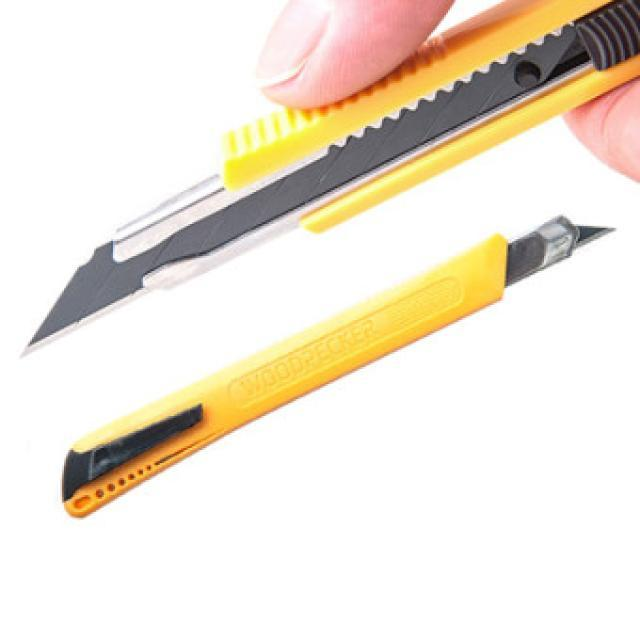cutter: (9, 0, 640, 384), (45, 204, 618, 522)
